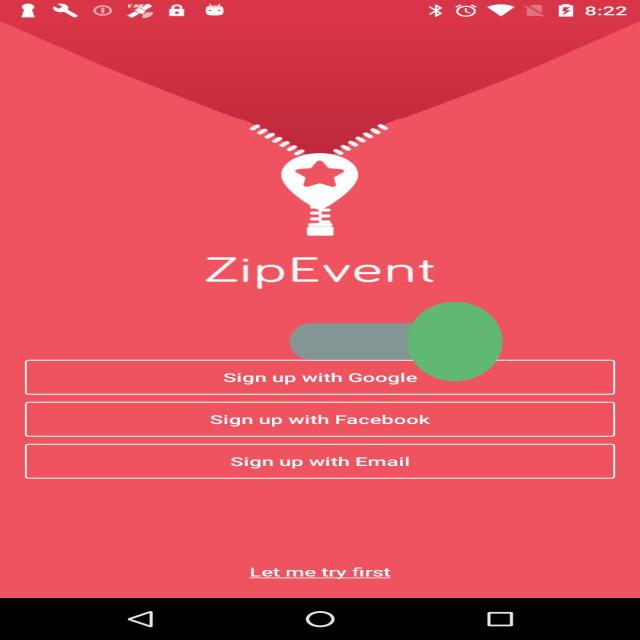social proof: (290, 253, 502, 430)
